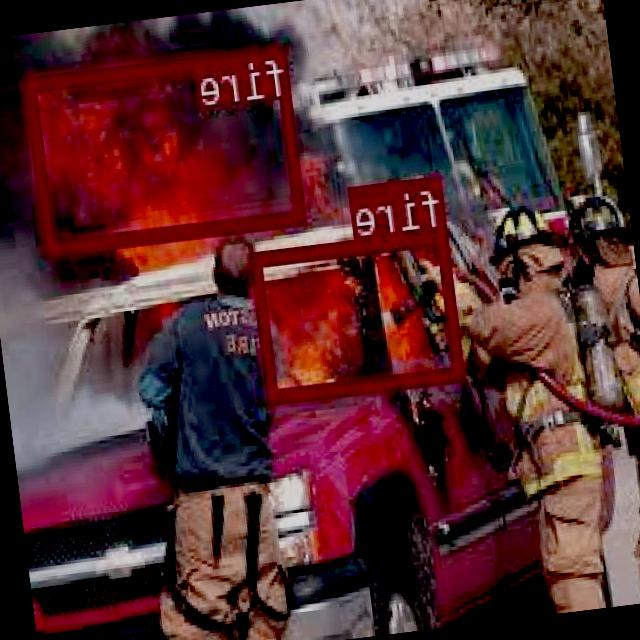fire: (26, 43, 308, 252), (252, 226, 466, 400)
